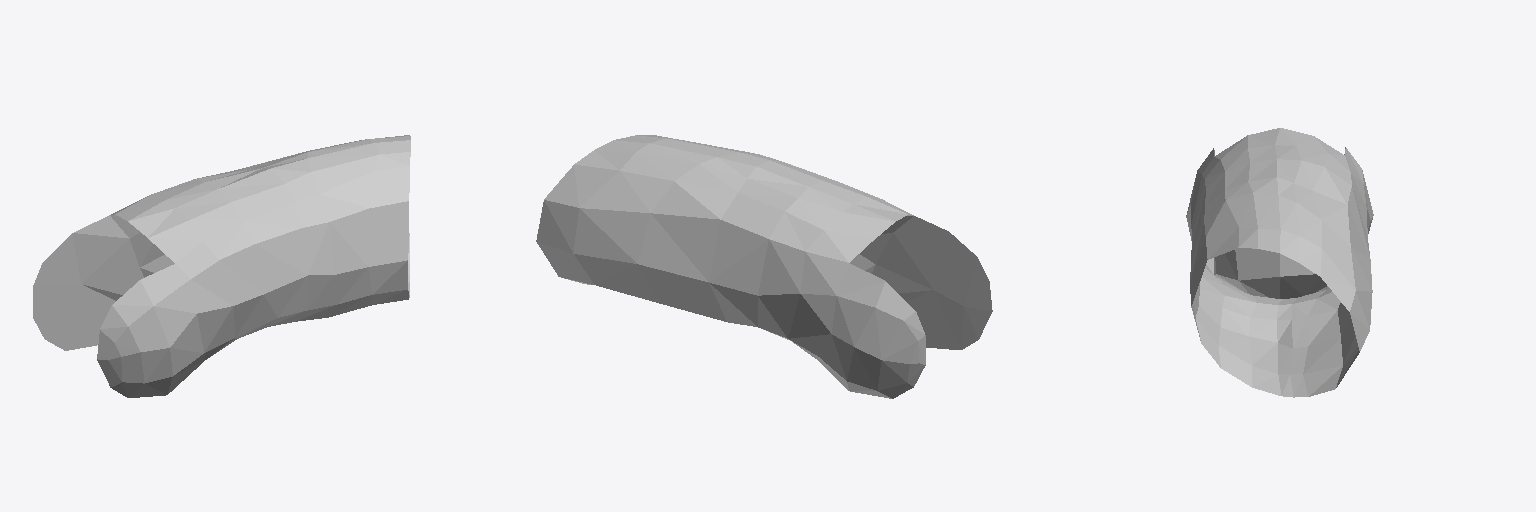
Rendered from LShoulderRoll_milky.obj.
3 renders of one model, left to right at view 1: azimuth 30°, elevation 25°; view 2: azimuth 150°, elevation 25°; view 3: azimuth 270°, elevation 25°, orthographic.
Size of the model in its own units: 2.01 by 0.8583 by 0.8511.